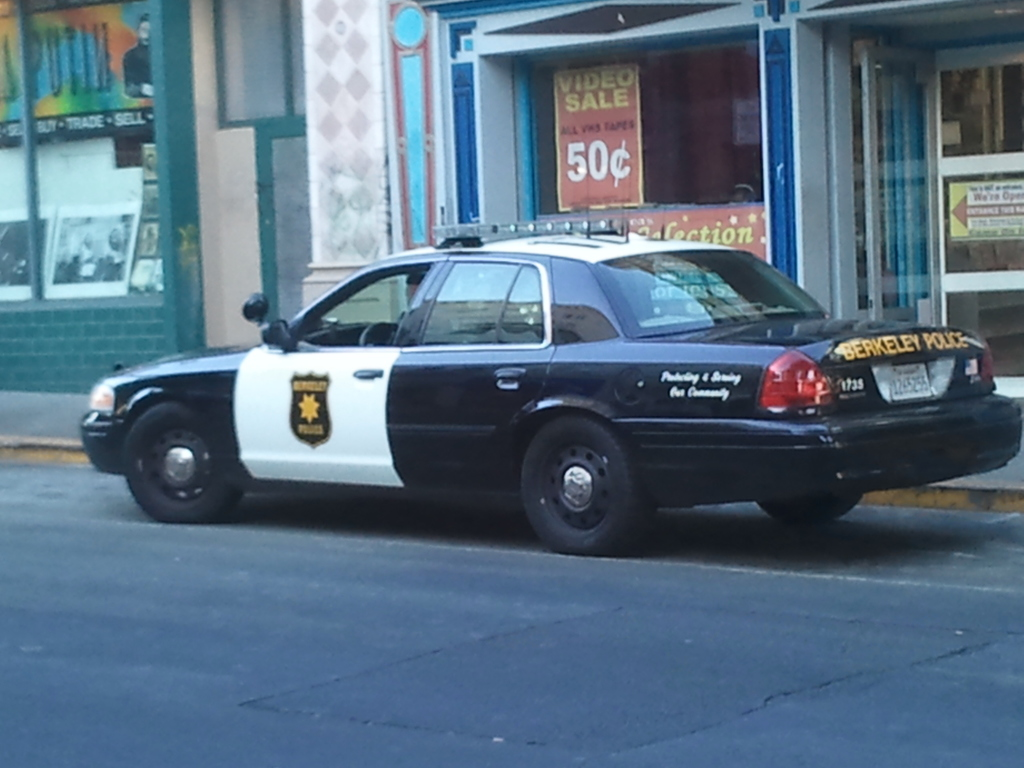Car: (99, 223, 997, 551)
